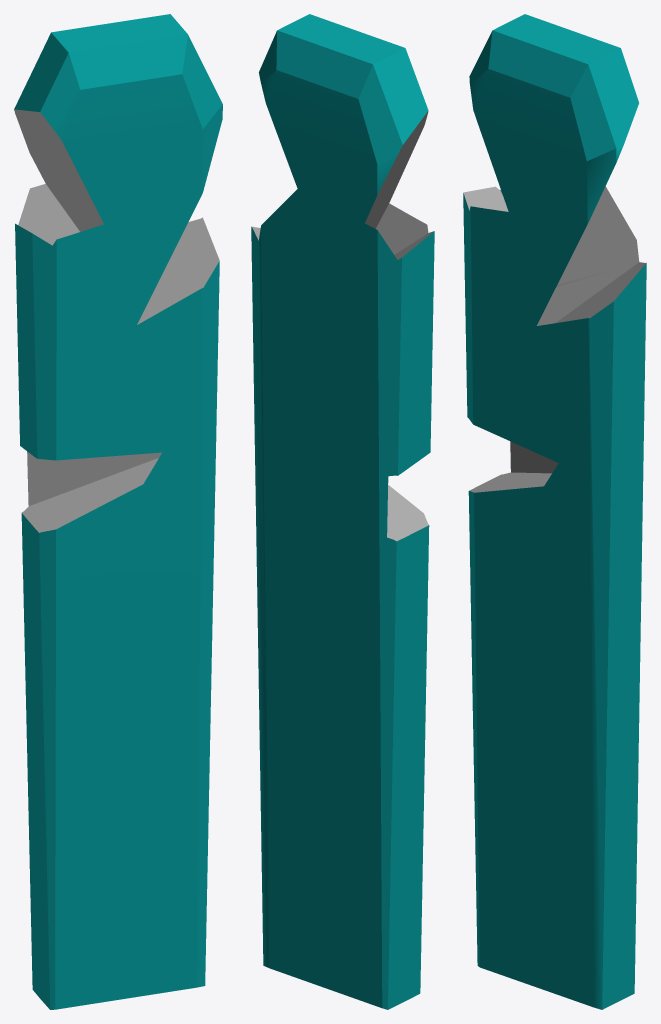
Rendered from Broken_Crystal_1_LOD.fbx.
3 views of the same model, side by side, from view 1: azimuth 30°, elevation 25°; view 2: azimuth 150°, elevation 25°; view 3: azimuth 330°, elevation 25° (orthographic).
Parts seen in each view (by area): view 1: polySurface163; view 2: polySurface163; view 3: polySurface163.
Boxes of the visible parts, <box> form: polySurface163: <box>14,14,222,1009</box>; polySurface163: <box>251,14,434,1009</box>; polySurface163: <box>463,14,646,1009</box>.
Bounding box in the file's own units: 2.48 × 12.67 × 1.28.
